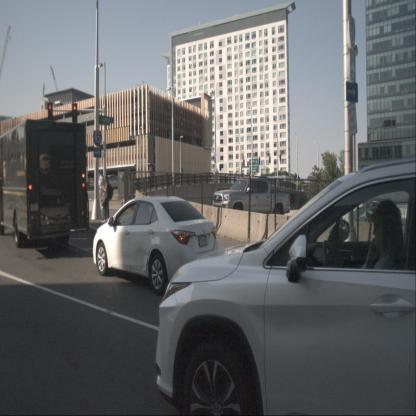human-pedestrian-adult: (100, 175, 113, 223), (98, 170, 106, 203)
movable_object-barrier: (266, 213, 334, 252), (216, 207, 267, 246), (186, 201, 220, 236)
vehicle-car: (156, 156, 415, 415), (92, 196, 218, 295), (98, 174, 122, 191)
vehicle-truck: (0, 119, 89, 248), (212, 176, 291, 228)
